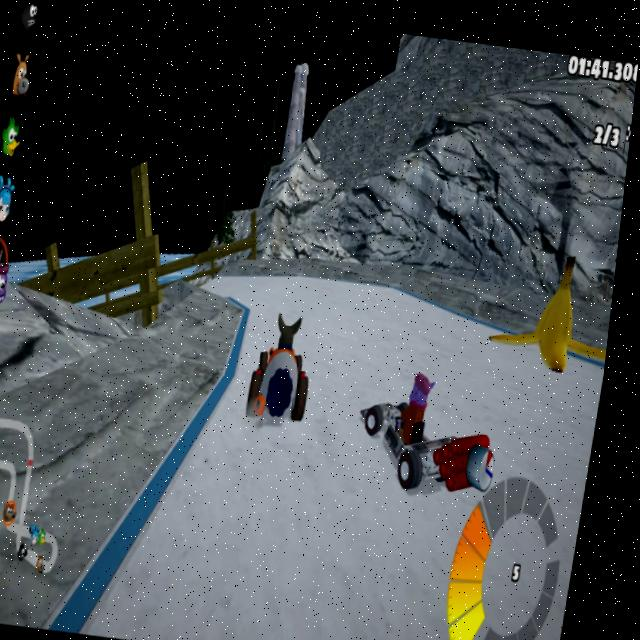enemy_kart: (361, 369, 517, 488)
obstacle: (493, 246, 621, 373)
player_kart: (251, 309, 329, 431)
track: (215, 267, 330, 308)
